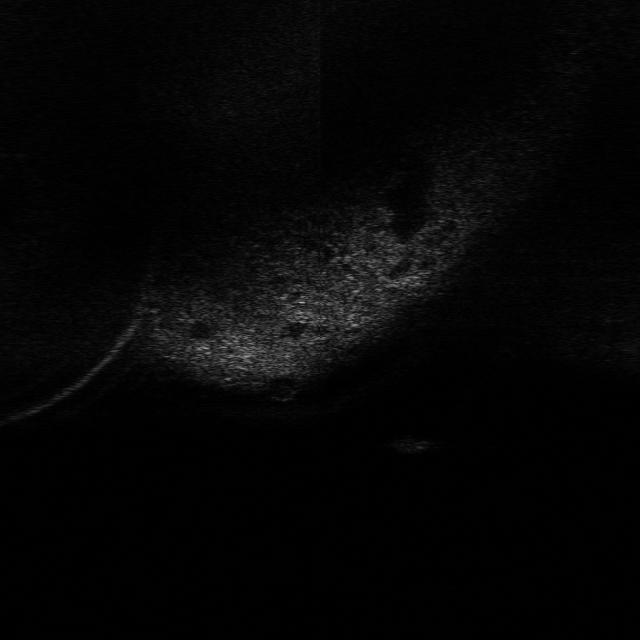cube: (384, 430, 437, 455)
